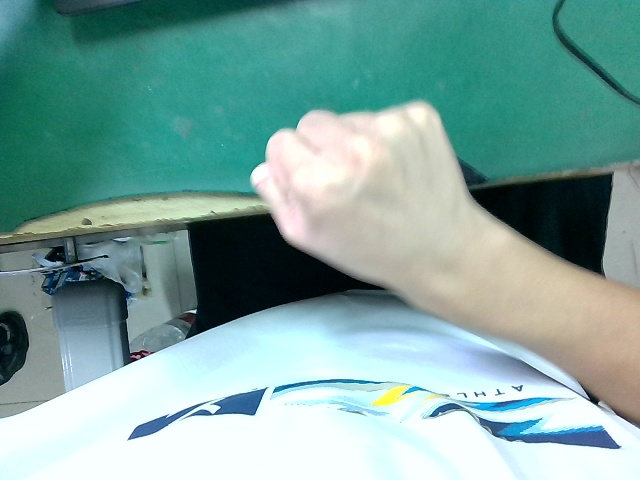stone: (251, 96, 478, 307)
